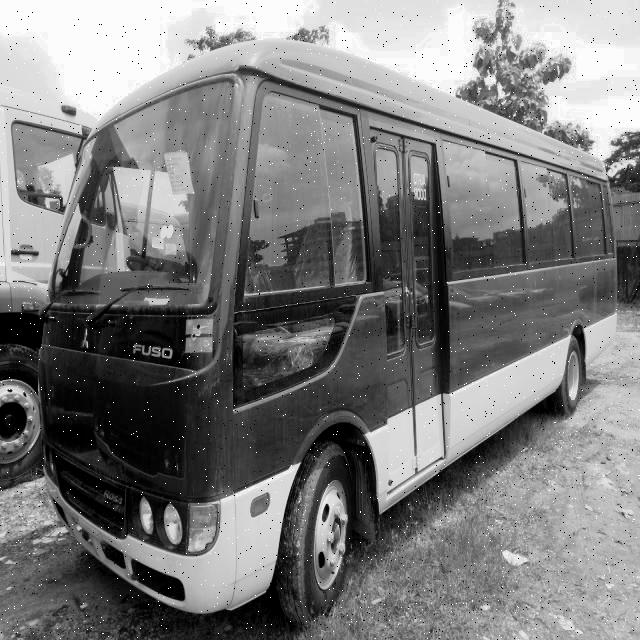Bus: (43, 13, 640, 639)
